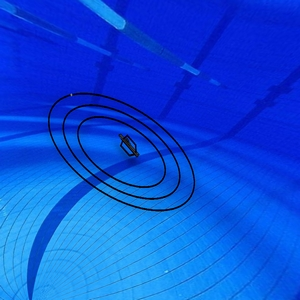circle: (44, 91, 204, 214)
submarine: (117, 133, 146, 161)
